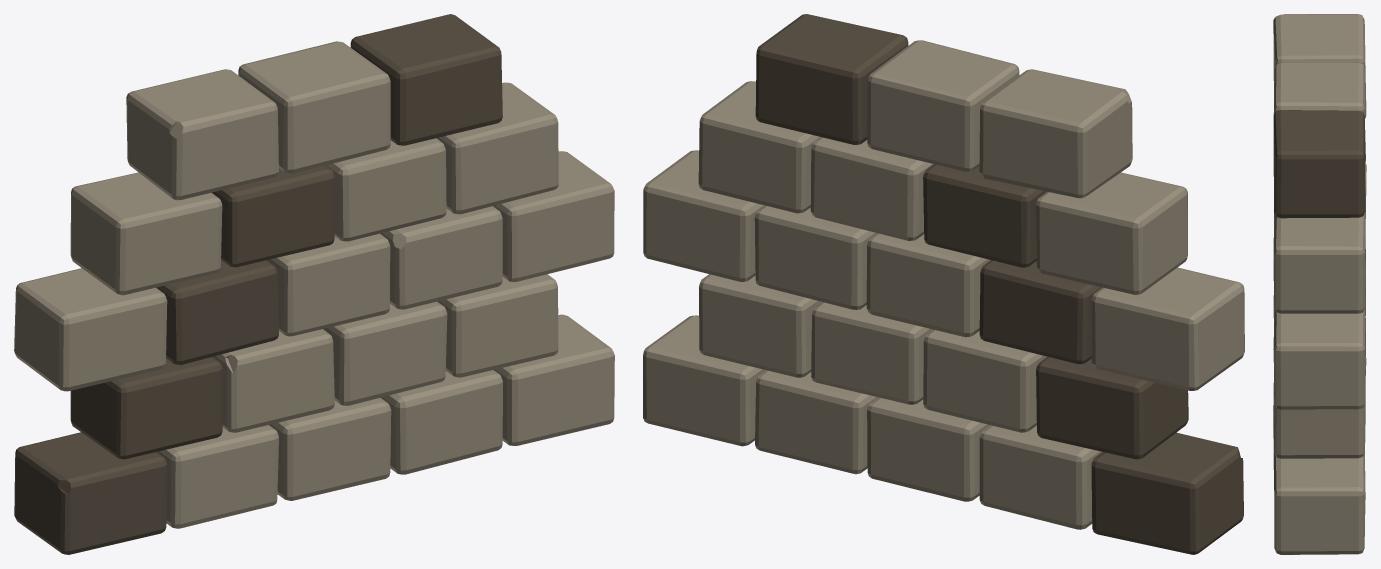
File: cracked_wall_destructible_fractured.glb
The picture shows the model from 3 angles, left to right: view 1: azimuth 30°, elevation 25°; view 2: azimuth 150°, elevation 25°; view 3: azimuth 270°, elevation 25°; orthographic projection. The views are drawn at different scales.
Parts seen in each view (by area): view 1: WallStoneFragment-rigid.018, WallStoneFragment-rigid.009, WallStoneFragment-rigid, WallStoneFragment-rigid.014, WallStoneFragment-rigid.019, WallStoneFragment-rigid.020, WallStoneFragment-rigid.005, WallStoneFragment-rigid.017, WallStoneFragment-rigid.013, WallStoneFragment-rigid.004, WallStoneFragment-rigid.003, WallStoneFragment-rigid.007 (+9 smaller); view 2: WallStoneFragment-rigid.018, WallStoneFragment-rigid.009, WallStoneFragment-rigid.014, WallStoneFragment-rigid, WallStoneFragment-rigid.019, WallStoneFragment-rigid.020, WallStoneFragment-rigid.005, WallStoneFragment-rigid.004, WallStoneFragment-rigid.017, WallStoneFragment-rigid.013, WallStoneFragment-rigid.011, WallStoneFragment-rigid.001 (+9 smaller); view 3: WallStoneFragment-rigid.020, WallStoneFragment-rigid.004, WallStoneFragment-rigid.013, WallStoneFragment-rigid.017, WallStoneFragment-rigid.018, WallStoneFragment-rigid.008, WallStoneFragment-rigid.019, WallStoneFragment-rigid.016, WallStoneFragment-rigid.012.
Part boxes in pixels (box(x1,y1,x2,y2)): WallStoneFragment-rigid.018: box(126, 69, 278, 200); WallStoneFragment-rigid.009: box(14, 268, 167, 391); WallStoneFragment-rigid: box(14, 432, 166, 554); WallStoneFragment-rigid.014: box(70, 172, 222, 295); WallStoneFragment-rigid.019: box(238, 41, 390, 173); WallStoneFragment-rigid.020: box(350, 14, 502, 145); WallStoneFragment-rigid.005: box(70, 357, 222, 459); WallStoneFragment-rigid.017: box(436, 82, 558, 214); WallStoneFragment-rigid.013: box(493, 151, 614, 281); WallStoneFragment-rigid.004: box(494, 314, 614, 445); WallStoneFragment-rigid.003: box(381, 370, 502, 474); WallStoneFragment-rigid.007: box(323, 301, 447, 405); WallStoneFragment-rigid.018: box(979, 69, 1132, 198); WallStoneFragment-rigid.009: box(1091, 267, 1244, 390); WallStoneFragment-rigid.014: box(1036, 172, 1187, 294); WallStoneFragment-rigid: box(1091, 432, 1243, 554); WallStoneFragment-rigid.019: box(867, 40, 1019, 171); WallStoneFragment-rigid.020: box(755, 14, 908, 144); WallStoneFragment-rigid.005: box(1036, 356, 1188, 459); WallStoneFragment-rigid.004: box(643, 315, 765, 446); WallStoneFragment-rigid.017: box(698, 81, 819, 213); WallStoneFragment-rigid.013: box(643, 150, 764, 281); WallStoneFragment-rigid.011: box(866, 233, 990, 337); WallStoneFragment-rigid.001: box(979, 425, 1102, 529); WallStoneFragment-rigid.020: box(1273, 110, 1365, 218); WallStoneFragment-rigid.004: box(1274, 453, 1365, 554); WallStoneFragment-rigid.013: box(1274, 308, 1365, 409); WallStoneFragment-rigid.017: box(1274, 212, 1365, 313); WallStoneFragment-rigid.018: box(1273, 14, 1366, 118); WallStoneFragment-rigid.008: box(1274, 375, 1365, 458); WallStoneFragment-rigid.019: box(1273, 62, 1365, 163); WallStoneFragment-rigid.016: box(1273, 163, 1366, 259); WallStoneFragment-rigid.012: box(1273, 260, 1365, 341).
Size of the model in its own units: 2.97 by 2.08 by 0.4919.
